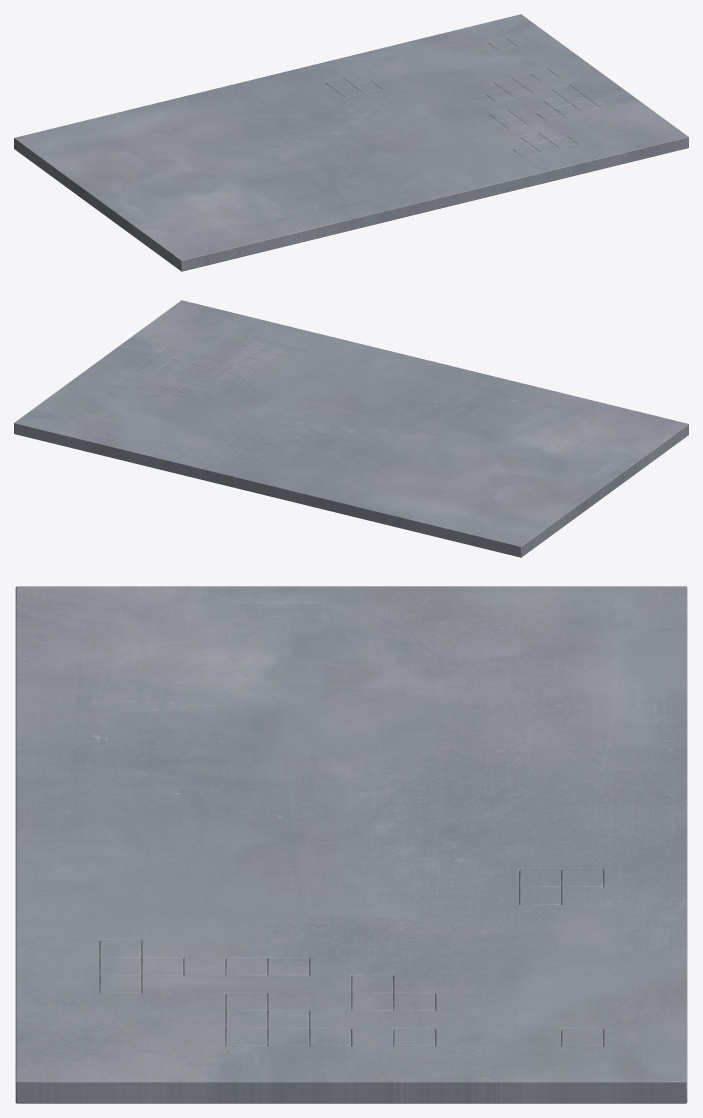
The model's file is background_plate.gltf.
3 views of the same model, one above another, from view 1: azimuth 30°, elevation 25°; view 2: azimuth 150°, elevation 25°; view 3: azimuth 270°, elevation 25° (orthographic). The views are drawn at different scales.
Parts seen in each view (by area): view 1: BackgroundPlate; view 2: BackgroundPlate; view 3: BackgroundPlate.
Part boxes in pixels (box(x1,y1,x2,y2)): BackgroundPlate: box(14, 14, 688, 271); BackgroundPlate: box(14, 300, 688, 557); BackgroundPlate: box(15, 586, 687, 1103).
Bounding box in the file's own units: 2.33 × 0.05 × 1.33.
